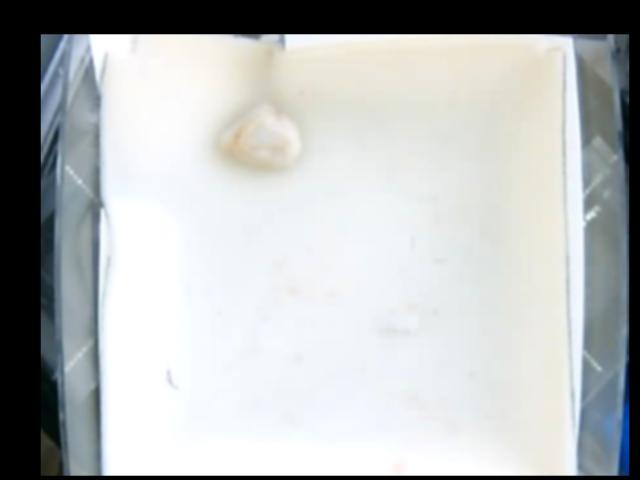Pebble: (218, 99, 302, 170)
